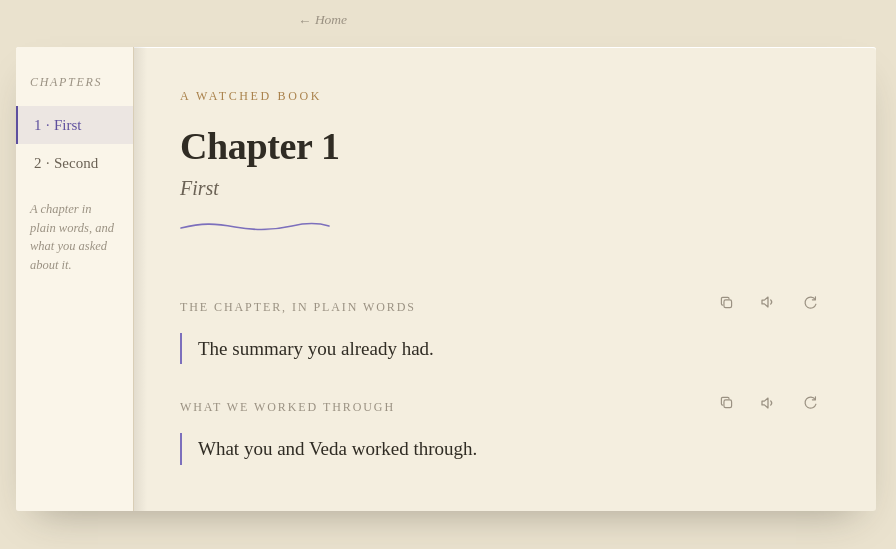
Test: watching a summary being written › writes the recap in its own place and leaves the other half standing
Expected: the text "What you and Veda worked through." is shown, 198,438 -> 477,460
Click the button named "Redo the chapter summary". click: (810, 302)
box: 790,282 -> 830,322
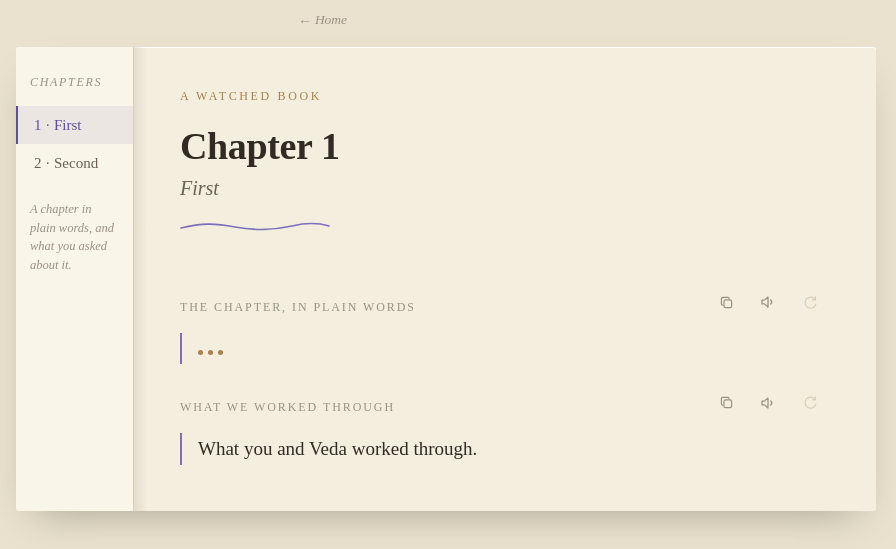
Expected: the text "What we worked through" is shown, 180,398 -> 407,418
Result: the element named "Veda is reading the chapter" is shown at 180,333 -> 830,364
Result: the text "The summary you already had." is gone
